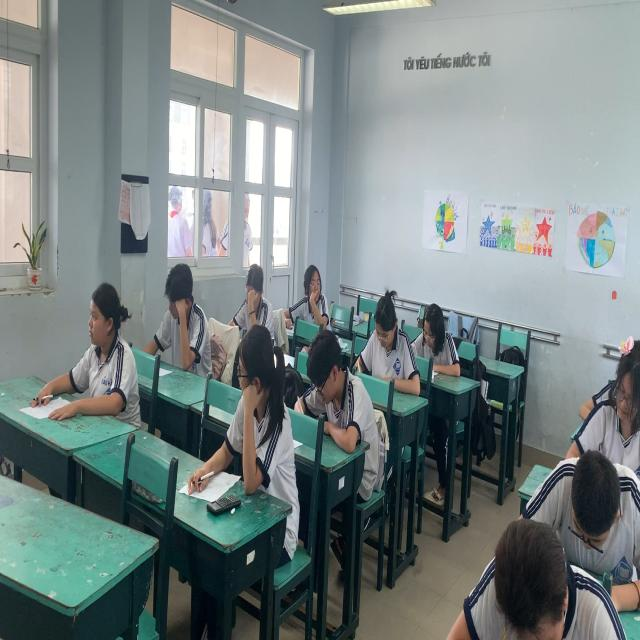cheating: (226, 308, 312, 560), (282, 222, 334, 342)
not_cheating: (473, 505, 640, 640), (66, 203, 152, 440), (296, 314, 382, 513), (157, 205, 223, 396), (569, 432, 640, 602), (359, 282, 424, 440), (399, 260, 459, 419), (224, 214, 278, 353), (596, 364, 640, 510), (603, 284, 640, 436)
